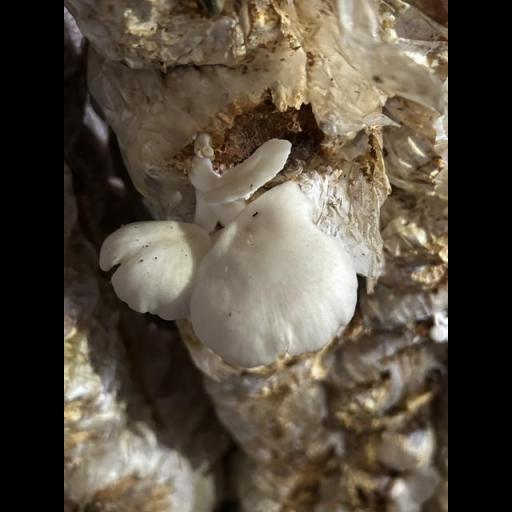White Oyster Mushroom: (93, 134, 366, 378)
